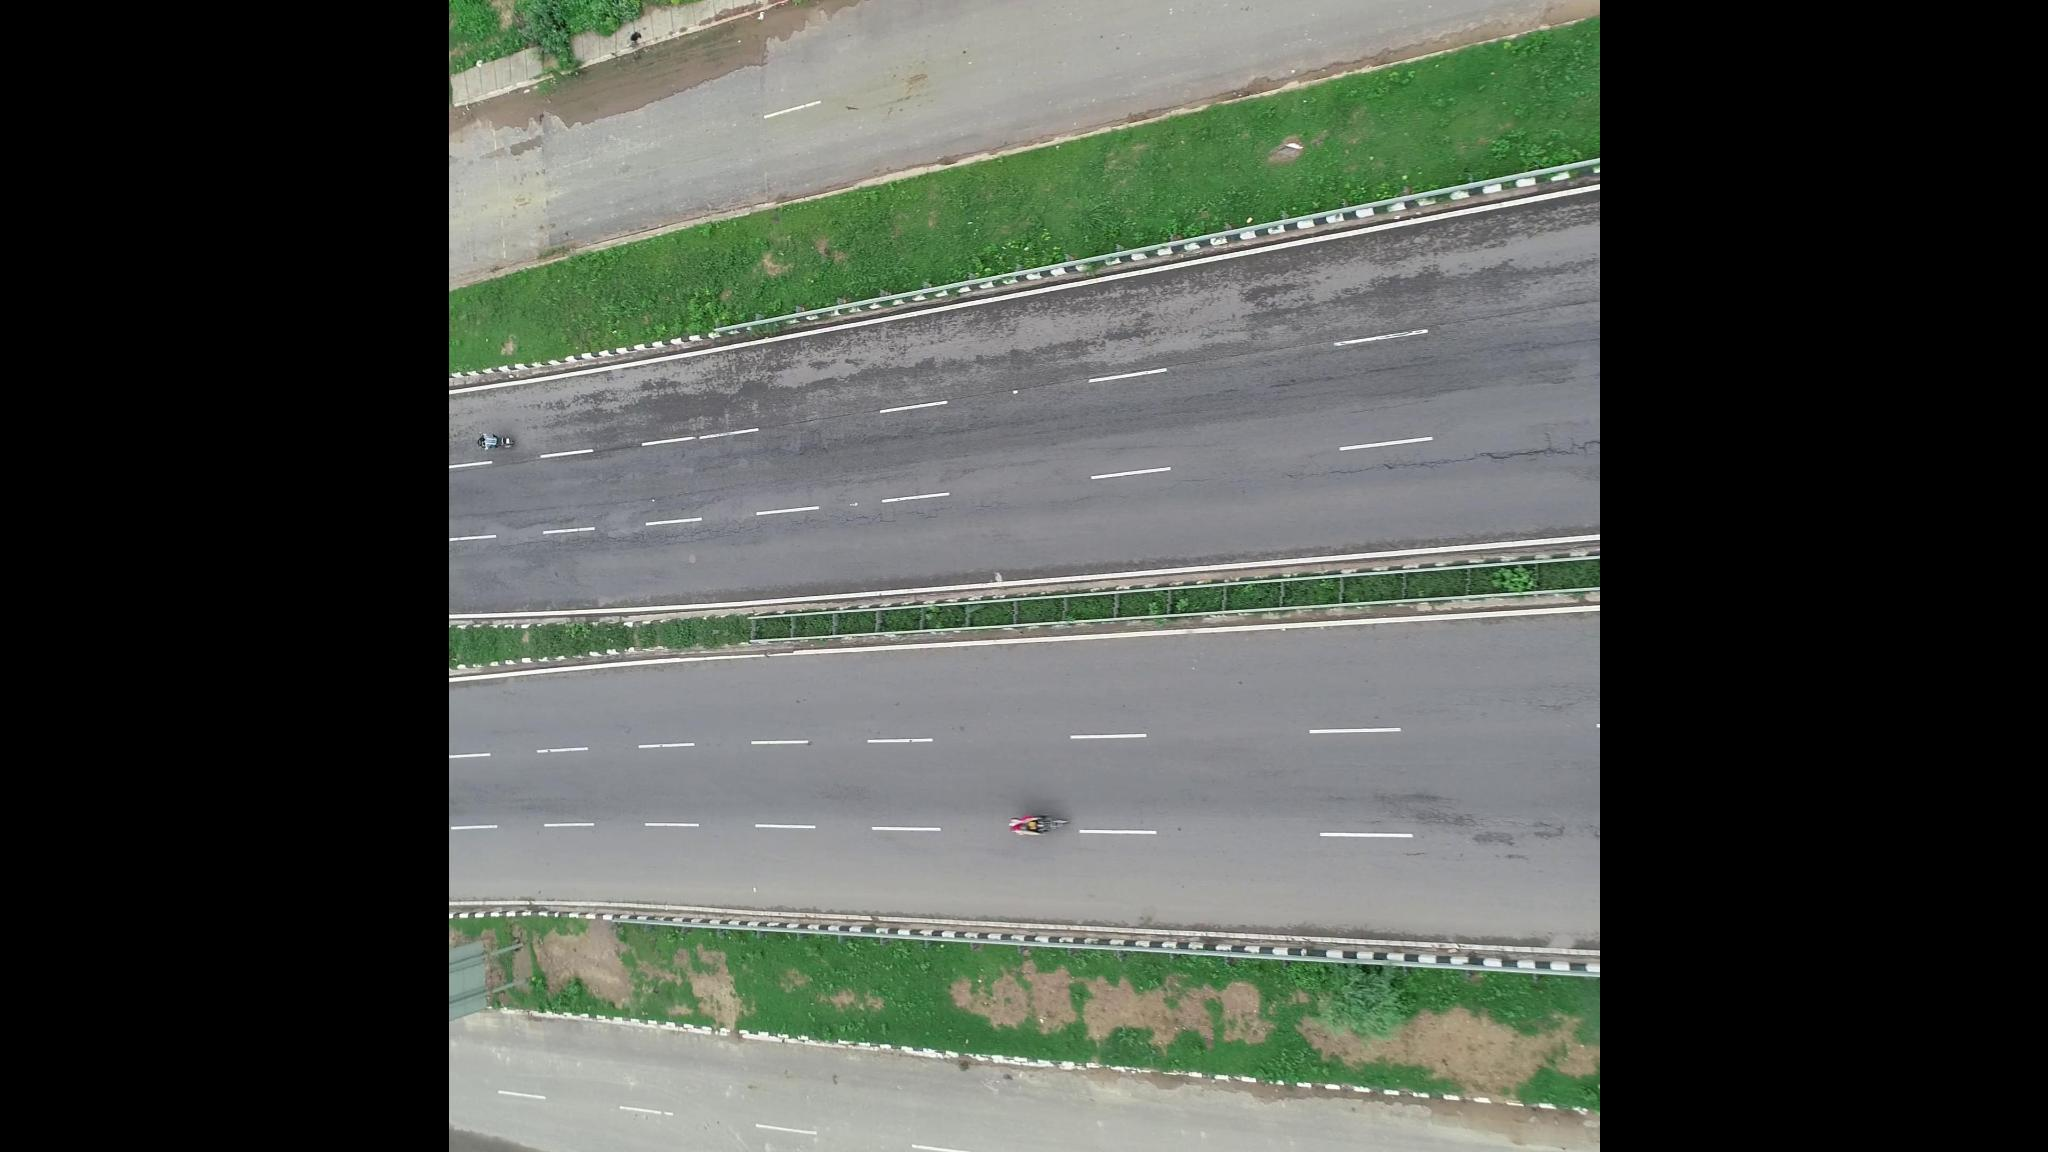Cracks: (1288, 421, 1595, 487), (594, 509, 757, 564)
Ravelling: (1277, 236, 1518, 342), (914, 298, 1221, 376), (609, 340, 868, 412)
